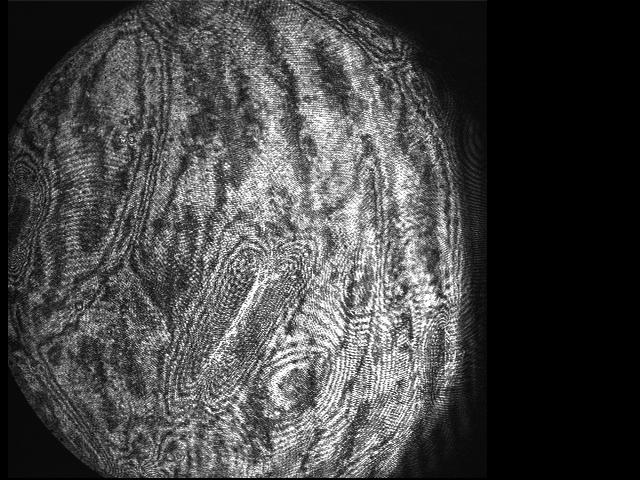plume: (157, 232, 319, 410)
